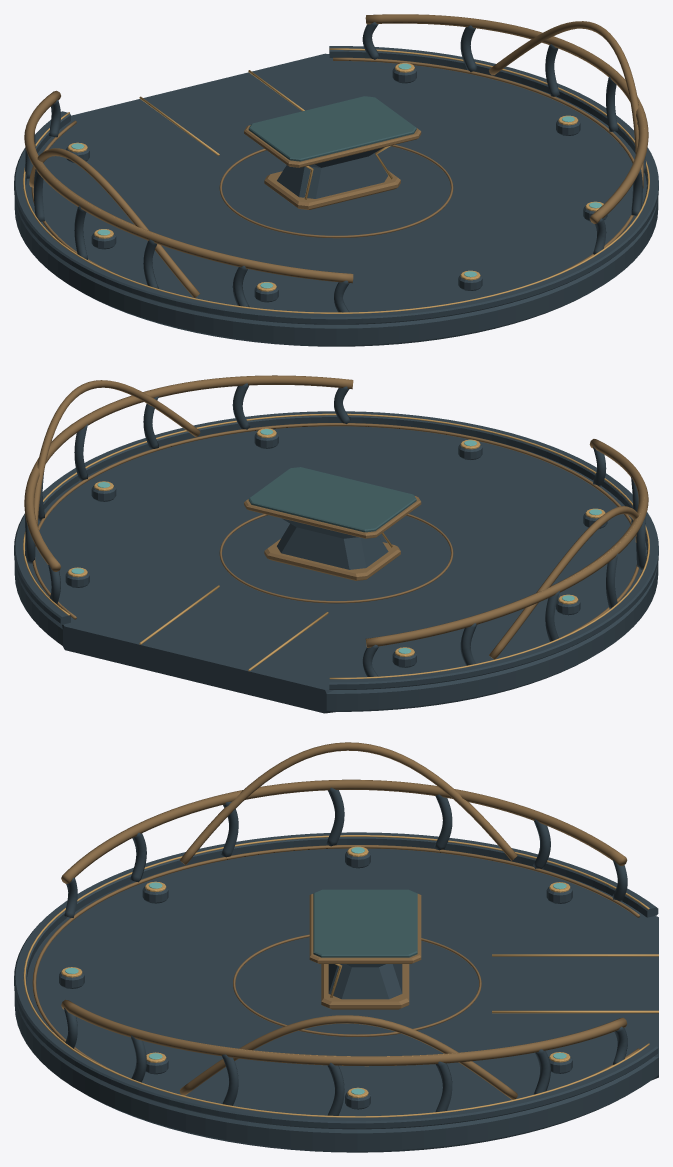
The model's file is observation-bay.glb.
The picture shows the model from 3 angles, top to bottom: view 1: azimuth 30°, elevation 25°; view 2: azimuth 150°, elevation 25°; view 3: azimuth 270°, elevation 25°; orthographic projection. The views are drawn at different scales.
Visible parts, largest first — view 1: ObservationBay | Basalt | blue, ObservationBay | Brass | muted, ObservationBay | Slate | inset, ObservationBay | Brass | bright, ObservationBay | Enamel | tide; view 2: ObservationBay | Basalt | blue, ObservationBay | Brass | muted, ObservationBay | Slate | inset, ObservationBay | Brass | bright; view 3: ObservationBay | Basalt | blue, ObservationBay | Brass | muted, ObservationBay | Slate | inset, ObservationBay | Brass | bright.
Part boxes in pixels (<box>): ObservationBay | Basalt | blue: <box>14,22,658,346</box>; ObservationBay | Brass | muted: <box>24,14,648,297</box>; ObservationBay | Slate | inset: <box>248,96,416,161</box>; ObservationBay | Brass | bright: <box>23,48,649,313</box>; ObservationBay | Enamel | tide: <box>71,63,601,288</box>; ObservationBay | Basalt | blue: <box>14,383,658,713</box>; ObservationBay | Brass | muted: <box>24,375,648,659</box>; ObservationBay | Slate | inset: <box>248,467,416,532</box>; ObservationBay | Brass | bright: <box>23,413,649,679</box>; ObservationBay | Basalt | blue: <box>14,787,658,1152</box>; ObservationBay | Brass | muted: <box>32,742,639,1099</box>; ObservationBay | Slate | inset: <box>313,889,417,957</box>; ObservationBay | Brass | bright: <box>23,780,658,1117</box>.
Bounding box in the file's own units: 8.42 × 1.77 × 7.91.
